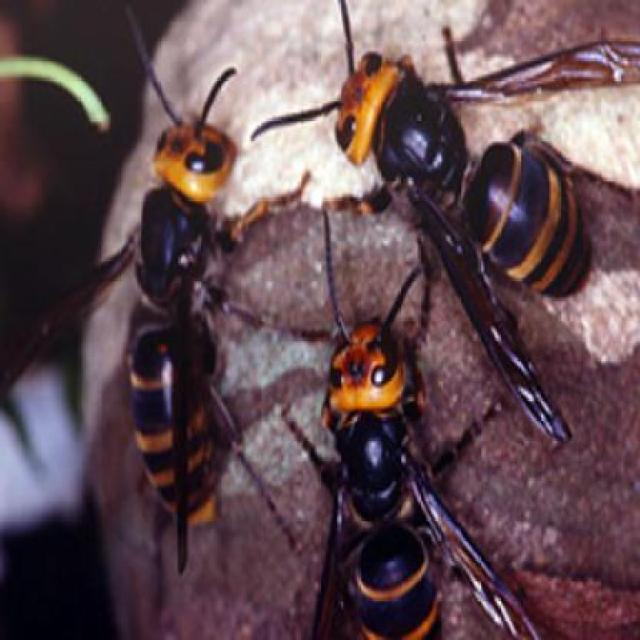Wasp: (295, 8, 635, 436), (267, 294, 542, 640), (87, 53, 255, 556)
